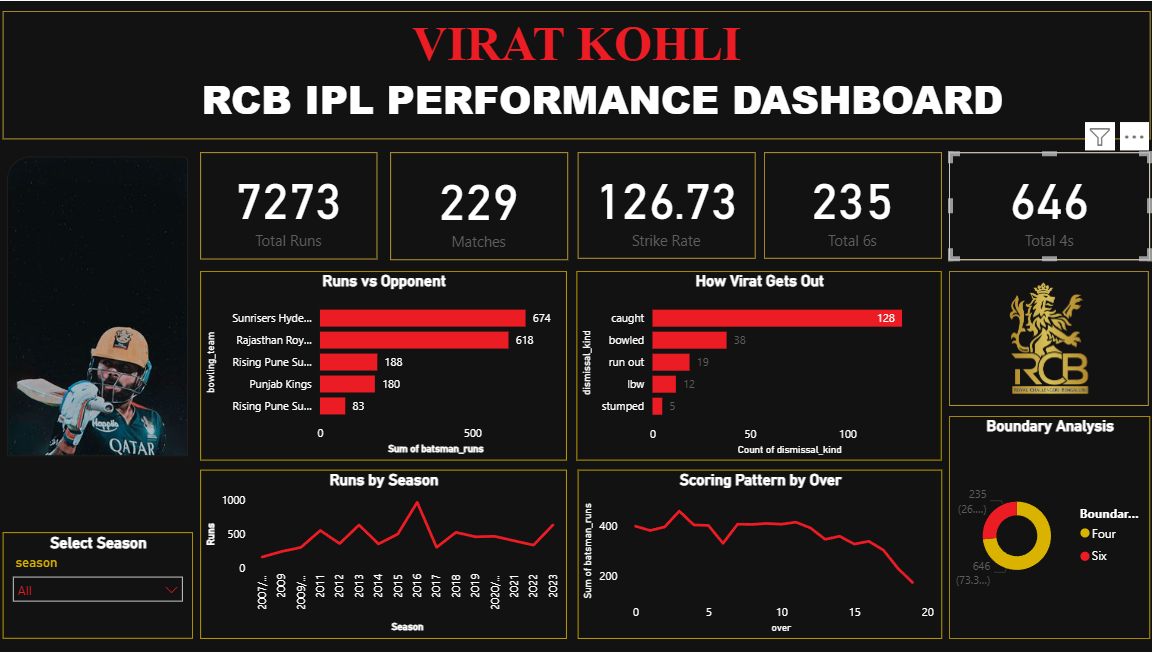

Layout of this report page (visuals, bound fields, positions):
{"tool":"powerbi","page":{"name":"Page 1","canvas":[1280,720],"ordinal":0},"visuals":[{"type":"textbox","box":[9.3,11.4,1260.1,140.9],"z":0},{"type":"card","fields":{"Values":["virat_rcb_cleaned.Total Runs"]},"box":[226,166,194.2,117.7],"z":1000},{"type":"card","fields":{"Values":["virat_rcb_cleaned.Matches"]},"box":[434.5,166.1,194.8,118.3],"z":2000},{"type":"card","fields":{"Values":["virat_rcb_cleaned.Strike Rate"]},"box":[640.5,166.1,194.8,116.9],"z":3000},{"type":"card","fields":{"Values":["virat_rcb_cleaned.Total 100s"]},"box":[1048.4,166,220.9,118],"z":4000},{"type":"card","fields":{"Values":["virat_rcb_cleaned.Total 6s"]},"box":[845.3,166,194.9,116.6],"z":5000},{"type":"lineChart","title":"Runs by Season","fields":{"Category":["virat_rcb_cleaned.season"],"Y":["virat_rcb_cleaned.Season Runs"]},"box":[226.4,514.6,402.1,185.2],"z":6000},{"type":"clusteredBarChart","title":"Runs vs Opponent","fields":{"Y":["Sum(virat_rcb_cleaned.batsman_runs)"],"Category":["virat_rcb_cleaned.bowling_team"]},"box":[226.3,296.2,402.4,208],"z":7000},{"type":"donutChart","title":"Boundary Analysis","fields":{"Category":["virat_rcb_cleaned.Boundary Type"],"Y":["CountNonNull(virat_rcb_cleaned.batsman_runs)"]},"box":[1048.7,456,220.7,244.6],"z":8000},{"type":"image","box":[1048.4,296.4,219.6,148.2],"z":9000},{"type":"barChart","title":"How Virat Gets Out","fields":{"Category":["virat_rcb_cleaned.dismissal_kind"],"Y":["CountNonNull(virat_rcb_cleaned.dismissal_kind)"]},"box":[639.4,296.4,401,208.3],"z":10000},{"type":"lineChart","title":"Scoring Pattern by Over","fields":{"Y":["Sum(virat_rcb_cleaned.batsman_runs)"],"Category":["virat_rcb_cleaned.over"]},"box":[640.4,515,400,185.5],"z":11000},{"type":"slicer","title":"Select Season","fields":{"Values":["virat_rcb_cleaned.season"]},"box":[9.6,583.2,208.6,116.6],"z":12000},{"type":"image","box":[10,166.2,208.5,338.5],"z":13000}]}

Visuals, with their boxes in screenshot pixels (x1, y1, x2, y2), scaled from the page's 1280x720 canvas onto the 1152x652 screenshot:
textbox: bbox=[8, 10, 1142, 138]
card - virat_rcb_cleaned.Total Runs: bbox=[203, 150, 378, 257]
card - virat_rcb_cleaned.Matches: bbox=[391, 150, 566, 258]
card - virat_rcb_cleaned.Strike Rate: bbox=[576, 150, 752, 256]
card - virat_rcb_cleaned.Total 100s: bbox=[944, 150, 1142, 257]
card - virat_rcb_cleaned.Total 6s: bbox=[761, 150, 936, 256]
"Runs by Season" lineChart: bbox=[204, 466, 566, 634]
"Runs vs Opponent" clusteredBarChart: bbox=[204, 268, 566, 457]
"Boundary Analysis" donutChart: bbox=[944, 413, 1142, 634]
image: bbox=[944, 268, 1141, 403]
"How Virat Gets Out" barChart: bbox=[575, 268, 936, 457]
"Scoring Pattern by Over" lineChart: bbox=[576, 466, 936, 634]
"Select Season" slicer: bbox=[9, 528, 196, 634]
image: bbox=[9, 151, 197, 457]
